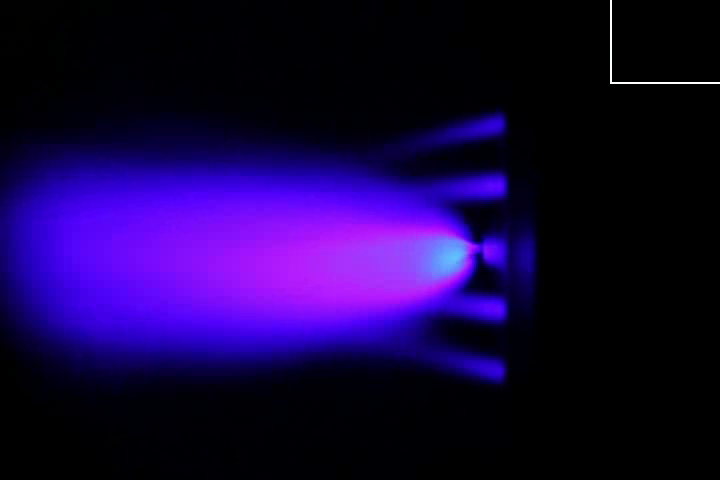burner cap: (479, 237, 509, 268)
pilot flame: (386, 339, 506, 383), (371, 110, 505, 148), (420, 169, 507, 208), (432, 288, 505, 323)
stable: (243, 211, 482, 302)
